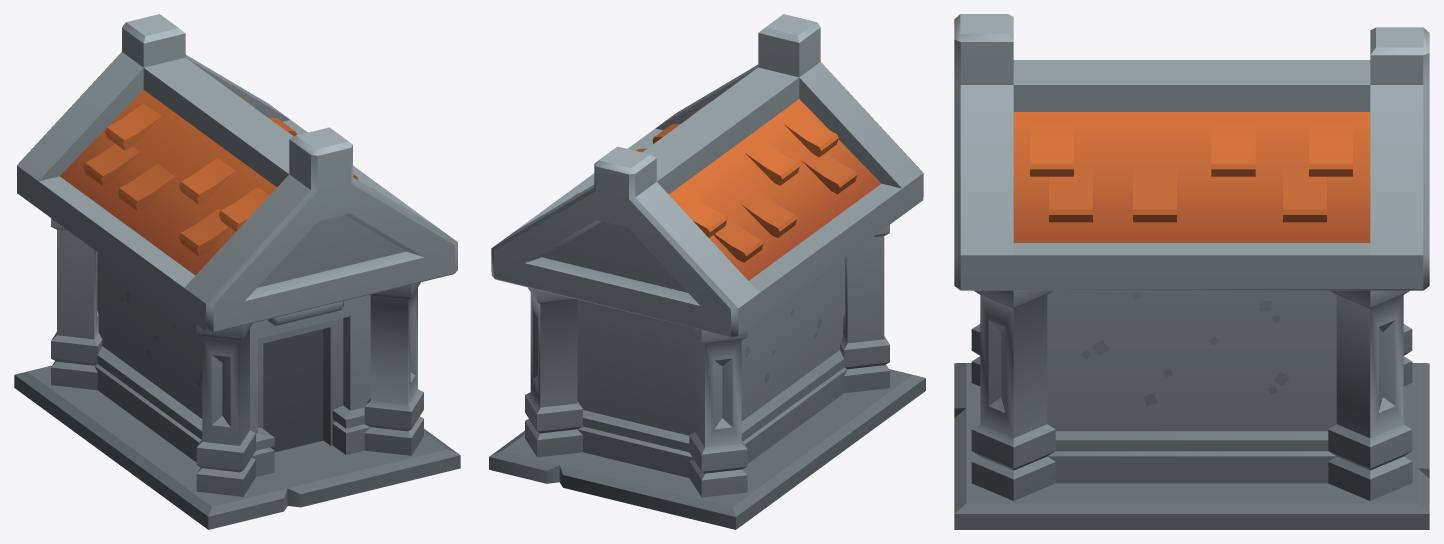
The model's file is model_crypt.glb.
3 views of the same model, side by side, from view 1: azimuth 30°, elevation 25°; view 2: azimuth 150°, elevation 25°; view 3: azimuth 270°, elevation 25° (orthographic). The views are drawn at different scales.
Parts seen in each view (by area): view 1: crypt; view 2: crypt; view 3: crypt.
Boxes of the visible parts, <box> form: crypt: <box>14,14,460,529</box>; crypt: <box>489,14,925,529</box>; crypt: <box>954,14,1429,529</box>.
Size of the model in its own units: 6 by 8 by 8.
Materials: 1 (1 with a texture image).
